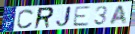3: (93, 6, 109, 26)
A: (109, 4, 129, 26)
C: (16, 8, 35, 29)
E: (72, 6, 91, 28)
J: (54, 6, 73, 29)
R: (32, 6, 55, 30)
